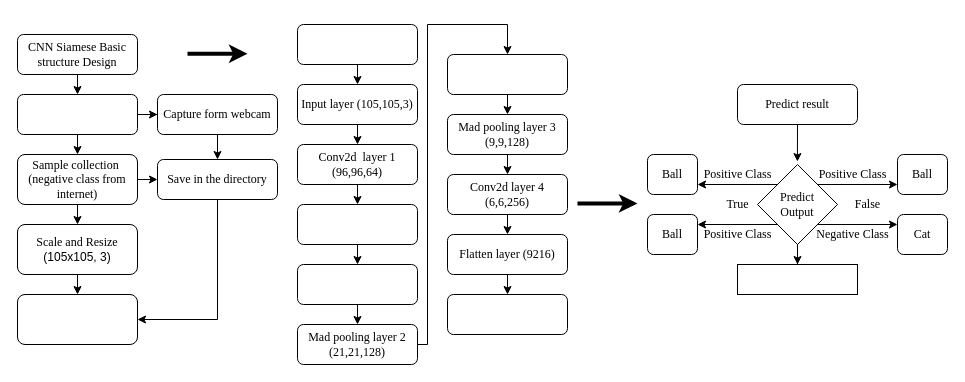
Some shapes in this 965 by 382 pixel diagram are drawn without their labels. Here are the shapes that lost their labels. From the top down, the centre of each, then its label:
(357,44): Build Model
(507,74): Conv2d layer 3 (18,18,128)
(77,114): Sample collection (positive, anchor class)
(357,224): Mad pooling layer 1 (48,48,64)
(357,284): Conv2d layer 2 (42,42,128)
(797,279): Show Result
(77,319): Data preprocess and split in train, test, validation
(507,314): Dense layer (4096)
